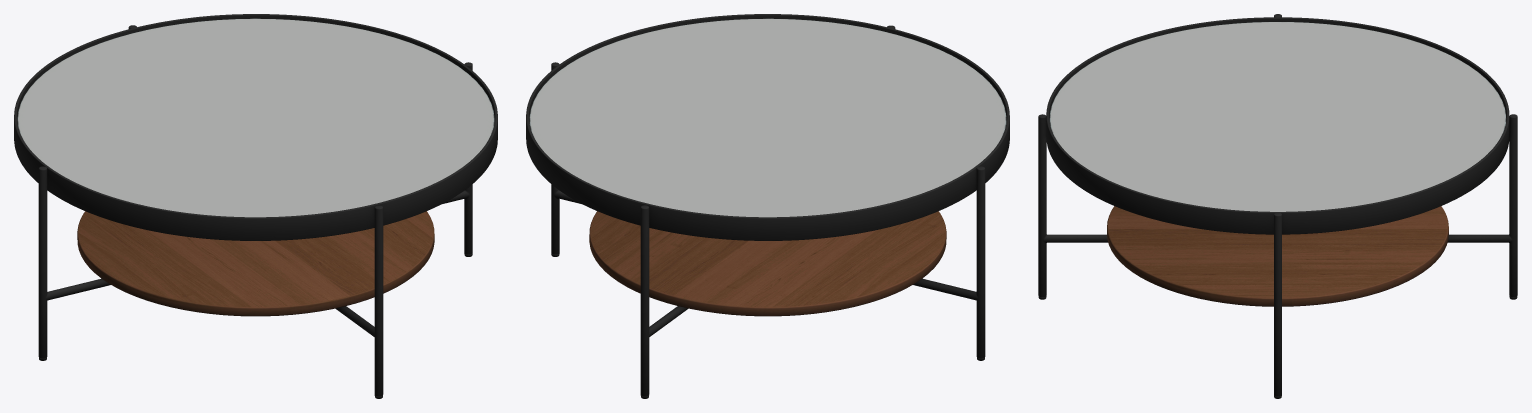
File: kameko_coffee_table.glb
3 views of the same model, side by side, from view 1: azimuth 30°, elevation 25°; view 2: azimuth 150°, elevation 25°; view 3: azimuth 270°, elevation 25° (orthographic). The views are drawn at different scales.
Parts seen in each view (by area): view 1: GLASS001, WALNUT001, IRON_BLACK001; view 2: GLASS001, WALNUT001, IRON_BLACK001; view 3: GLASS001, WALNUT001, IRON_BLACK001.
Part boxes in pixels (x1,y1,x2,y2): GLASS001: (17, 18, 494, 217); WALNUT001: (77, 211, 434, 316); IRON_BLACK001: (14, 14, 497, 398); GLASS001: (529, 18, 1006, 217); WALNUT001: (589, 211, 946, 316); IRON_BLACK001: (526, 14, 1009, 398); GLASS001: (1049, 22, 1506, 211); WALNUT001: (1107, 206, 1448, 306); IRON_BLACK001: (1038, 14, 1517, 398).
Size of what is drawn, in the model's own units: 89.88 by 38.01 by 89.98.
Materials: 3 (3 with a texture image).
